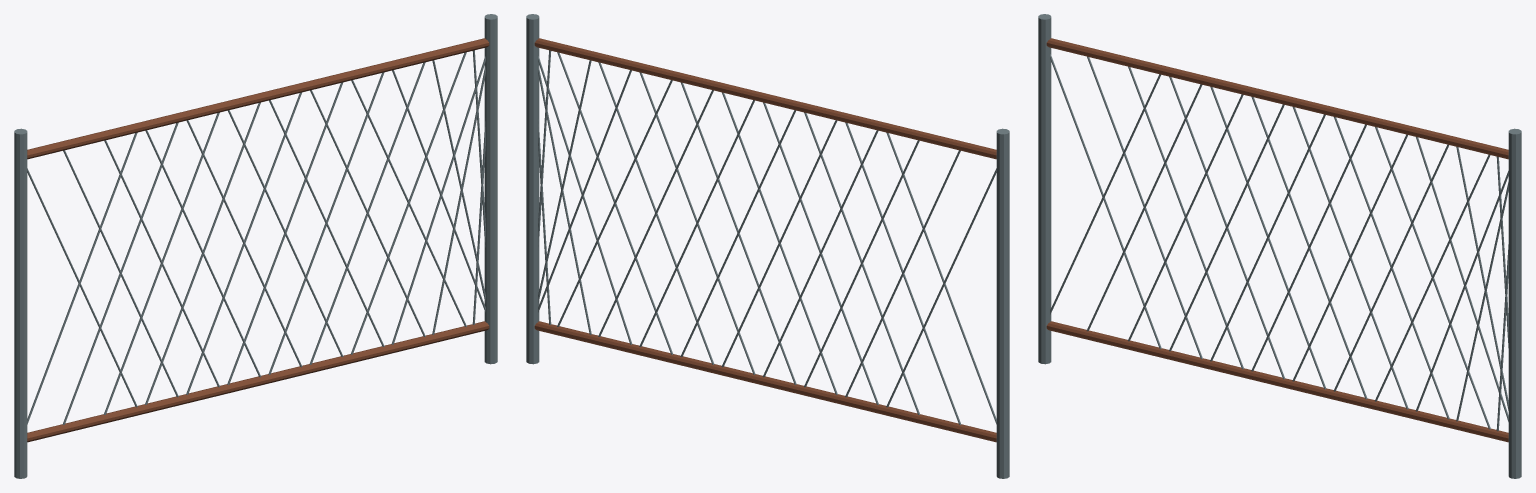
The model's file is fence.glb.
The picture shows the model from 3 angles, left to right: view 1: azimuth 30°, elevation 25°; view 2: azimuth 150°, elevation 25°; view 3: azimuth 330°, elevation 25°; orthographic projection.
Visible parts, largest first — view 1: fence.001; view 2: fence.001; view 3: fence.001.
Boxes of the visible parts, x1,y1,x2,y2 form: fence.001: (14,14,497,478); fence.001: (526,14,1009,478); fence.001: (1038,14,1521,478).
Bounding box in the file's own units: 4.1 × 2.8 × 0.1.
